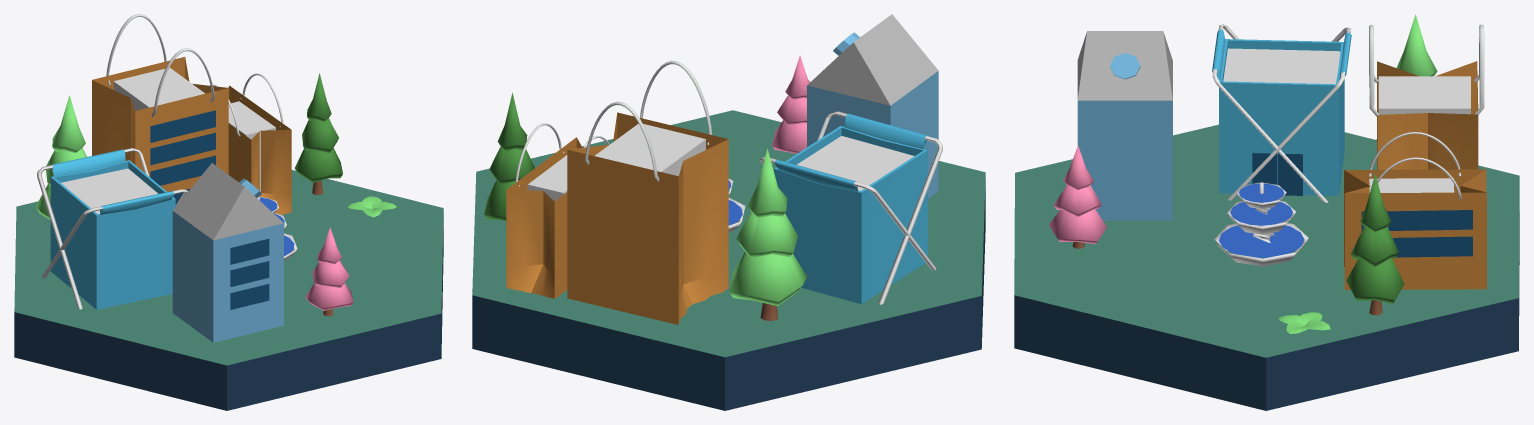
File: Macro - Shop lvl 3.fbx
The picture shows the model from 3 angles, left to right: view 1: azimuth 30°, elevation 25°; view 2: azimuth 150°, elevation 25°; view 3: azimuth 270°, elevation 25°; orthographic projection. The views are drawn at different scales.
Visible parts, largest first — view 1: Cylinder.179, bathroom_item_001.001, milkbox1.012, Circle.006, Circle.005, Tree_Spruce_tiny_01.007, Tree_Spruce_tiny_01.001, Plane.122, Cube.138, Tree_Spruce_tiny_01.005, Plane.007, Plane.003 (+7 smaller); view 2: Cylinder.179, Circle.006, bathroom_item_001.001, milkbox1.012, Circle.005, Tree_Spruce_tiny_01.005, Cube.138, Plane.122, Tree_Spruce_tiny_01.007, Tree_Spruce_tiny_01.001, Cube.139, Cube.018; view 3: Cylinder.179, milkbox1.012, bathroom_item_001.001, Circle.005, Circle.006, Cube.018, Tree_Spruce_tiny_01.007, Plane.122, Cube.138, Tree_Spruce_tiny_01.001, Plane.004, Plane.006 (+5 smaller).
Part boxes in pixels (x1,y1,x2,y2): Cylinder.179: (14, 170, 443, 410); bathroom_item_001.001: (37, 148, 188, 309); milkbox1.012: (172, 163, 283, 342); Circle.006: (92, 14, 228, 191); Circle.005: (210, 73, 291, 214); Tree_Spruce_tiny_01.007: (295, 73, 342, 195); Tree_Spruce_tiny_01.001: (305, 227, 353, 316); Plane.122: (61, 168, 158, 213); Cube.138: (113, 67, 204, 110); Tree_Spruce_tiny_01.005: (36, 95, 86, 219); Plane.007: (150, 110, 215, 142); Plane.003: (150, 132, 215, 165); Cylinder.179: (472, 110, 985, 410); Circle.006: (567, 60, 728, 324); bathroom_item_001.001: (759, 111, 942, 304); milkbox1.012: (807, 14, 938, 198); Circle.005: (506, 123, 609, 298); Tree_Spruce_tiny_01.005: (729, 148, 806, 321); Cube.138: (595, 124, 705, 176); Plane.122: (796, 136, 914, 190); Tree_Spruce_tiny_01.007: (484, 92, 534, 221); Tree_Spruce_tiny_01.001: (772, 55, 810, 153); Cube.139: (527, 155, 567, 201); Cube.018: (728, 179, 745, 232); Cylinder.179: (1014, 124, 1519, 410); milkbox1.012: (1077, 31, 1172, 220); bathroom_item_001.001: (1212, 24, 1351, 202); Circle.005: (1344, 132, 1486, 289); Circle.006: (1369, 24, 1484, 169); Cube.018: (1214, 182, 1308, 266); Tree_Spruce_tiny_01.007: (1346, 173, 1404, 315); Plane.122: (1223, 48, 1340, 84); Cube.138: (1378, 76, 1470, 114); Tree_Spruce_tiny_01.001: (1049, 145, 1106, 248); Plane.004: (1361, 210, 1472, 231); Plane.006: (1392, 236, 1472, 257).
Bounding box in the file's own units: 197 × 98.68 × 172.
